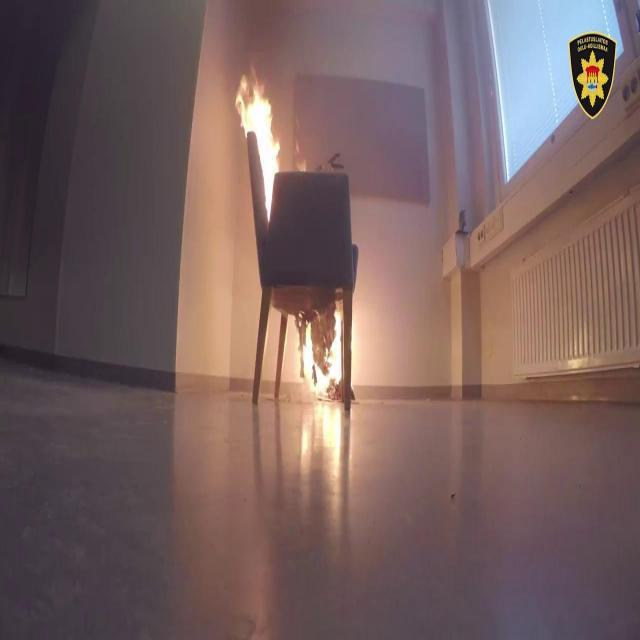Fire: (232, 72, 292, 220), (288, 301, 342, 399)
